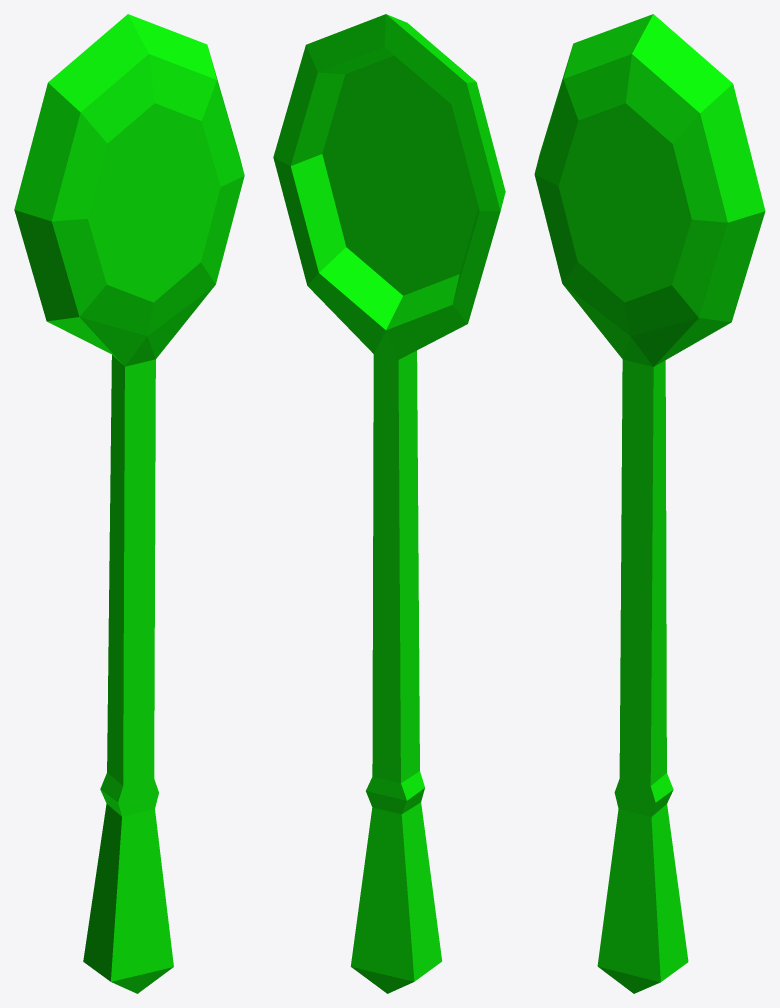
The model's file is SM_Spoon_Metal.fbx.
The picture shows the model from 3 angles, left to right: view 1: azimuth 30°, elevation 25°; view 2: azimuth 150°, elevation 25°; view 3: azimuth 330°, elevation 25°; orthographic projection.
Parts seen in each view (by area): view 1: spoon-metal; view 2: spoon-metal; view 3: spoon-metal.
Part boxes in pixels (x1=…): spoon-metal: x1=14, y1=14, x2=244, y2=993; spoon-metal: x1=273, y1=14, x2=505, y2=993; spoon-metal: x1=534, y1=14, x2=765, y2=993.
Bounding box in the file's own units: 0.0623 × 0.2559 × 0.017.
